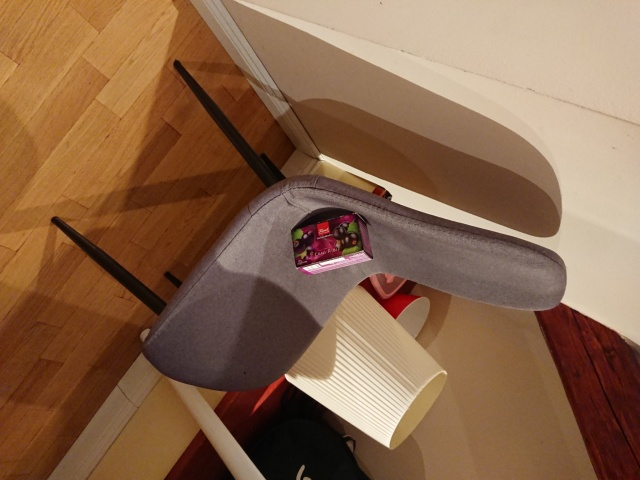Franck Black Currant Tea 60g: (288, 210, 376, 279)
